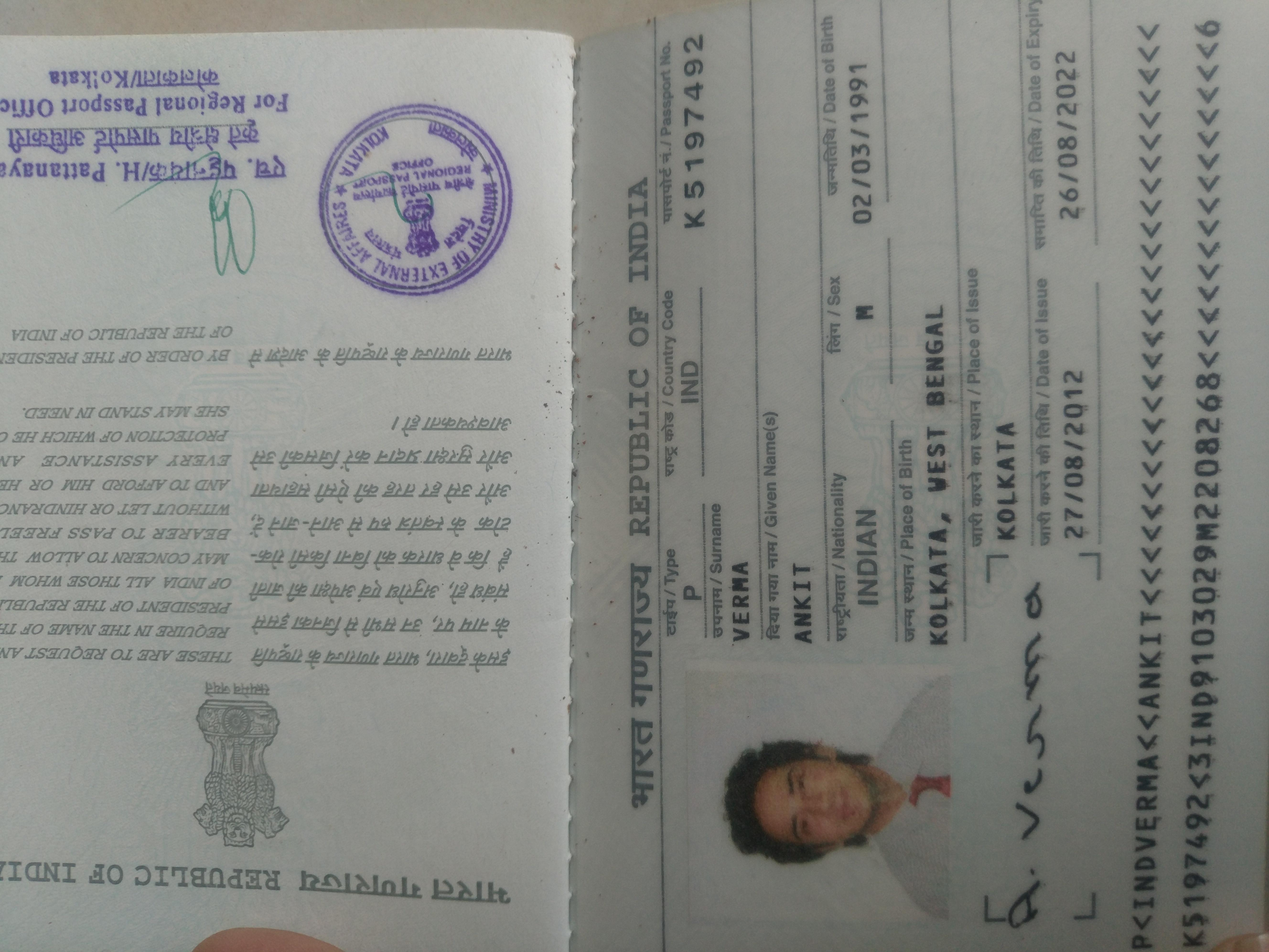DOB: (841, 49, 882, 235)
Surname: (725, 558, 755, 654)
country_code: (675, 348, 713, 413)
date_of_expiry: (1049, 33, 1091, 235)
date_of_issue: (1055, 354, 1103, 546)
details: (1125, 1, 1237, 952)
name: (786, 552, 817, 661)
nationality: (848, 487, 888, 617)
passport_no: (678, 29, 718, 239)
photo: (686, 667, 946, 919)
place_of_birth: (920, 292, 960, 657)
place_of_issue: (990, 411, 1026, 551)
sex: (853, 294, 878, 337)
sign: (987, 573, 1070, 935)
type: (678, 572, 711, 616)
